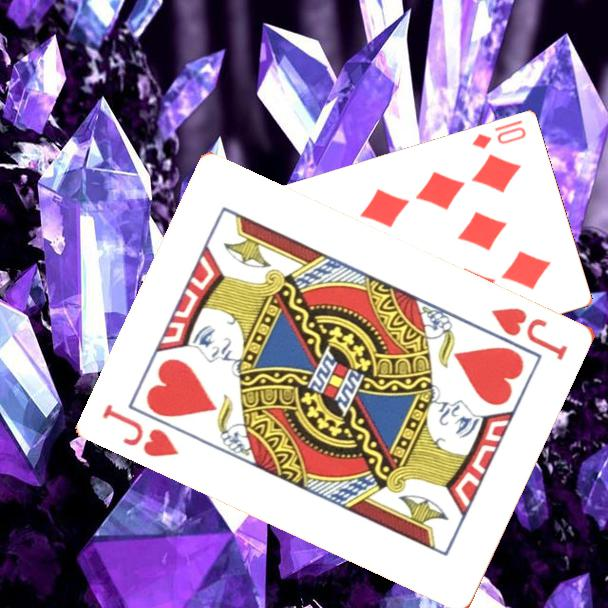d10: (468, 117, 529, 152)
h11: (487, 303, 571, 363), (99, 400, 182, 460)
